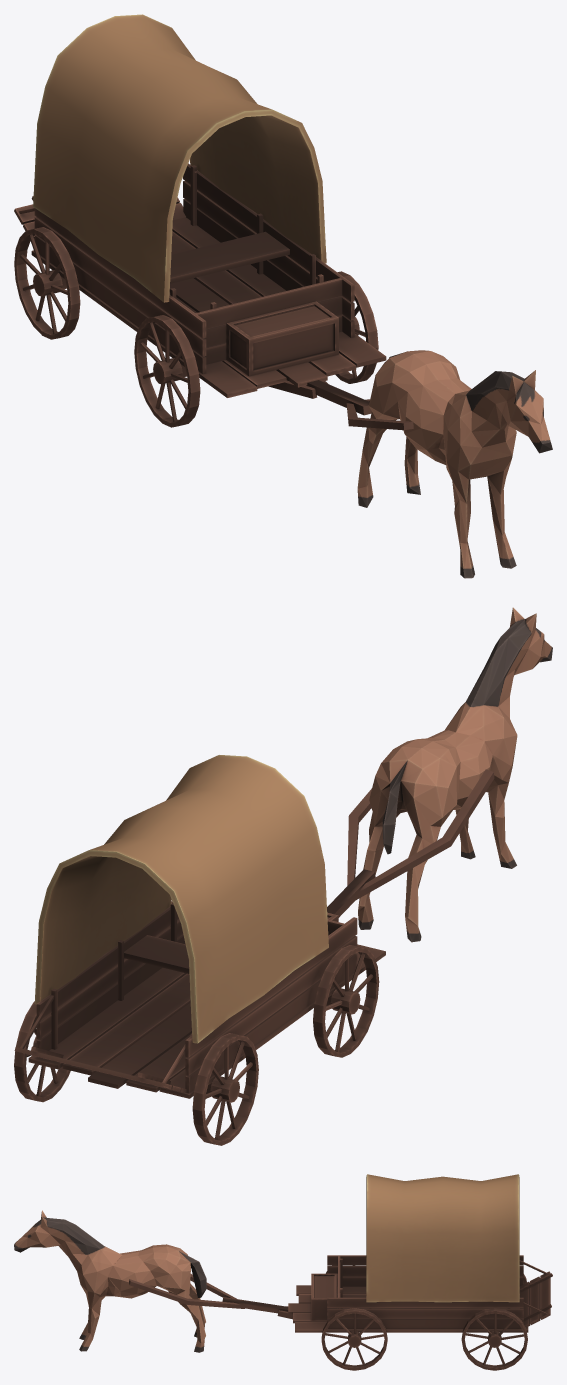
Rendered from Cart_2.FBX.
The picture shows the model from 3 angles, top to bottom: view 1: azimuth 30°, elevation 25°; view 2: azimuth 150°, elevation 25°; view 3: azimuth 270°, elevation 25°; orthographic projection. The views are drawn at different scales.
Parts seen in each view (by area): view 1: Cylinder021, ddadas001; view 2: Cylinder021, ddadas001; view 3: Cylinder021, ddadas001.
Part boxes in pixels (x1,y1,x2,y2): Cylinder021: (14, 14, 413, 430); ddadas001: (357, 350, 552, 578); Cylinder021: (14, 755, 494, 1145); ddadas001: (358, 607, 552, 942); Cylinder021: (129, 1174, 552, 1370); ddadas001: (14, 1210, 206, 1352).
Bounding box in the file's own units: 60.08 × 82.88 × 246.
